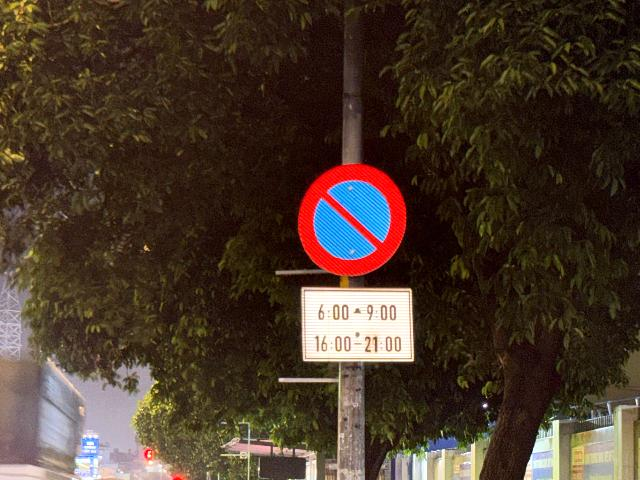cam-do-xe: (298, 162, 408, 278)
